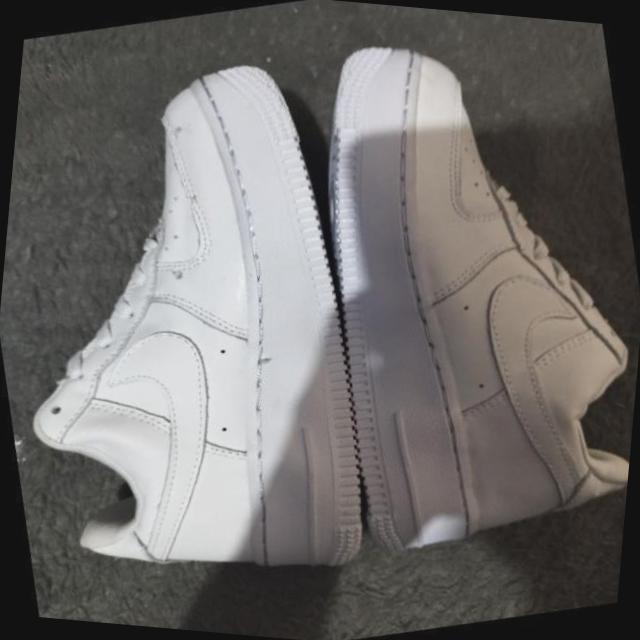nike_fake_airforce: (0, 29, 422, 637), (254, 0, 640, 587)
